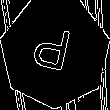P_S: (32, 23, 78, 81)
